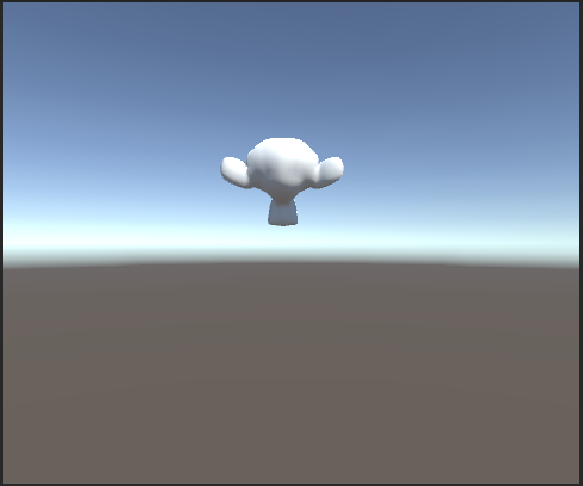monkey: (220, 134, 346, 229)
